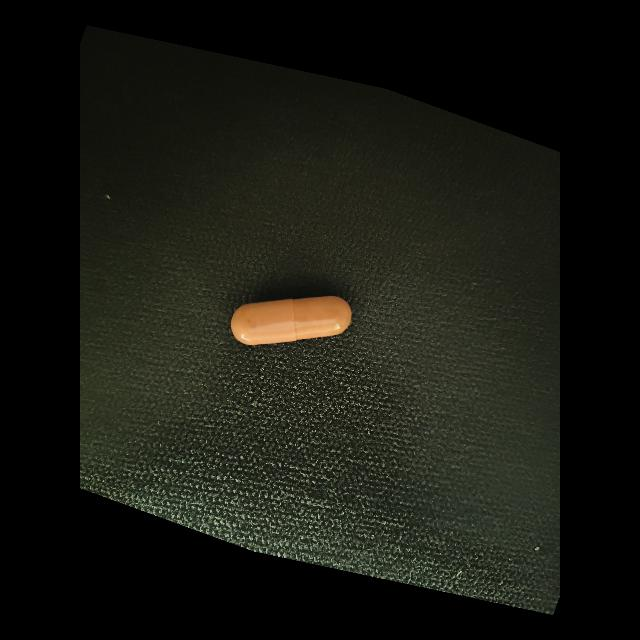Intact Capsule: (231, 296, 352, 345)
